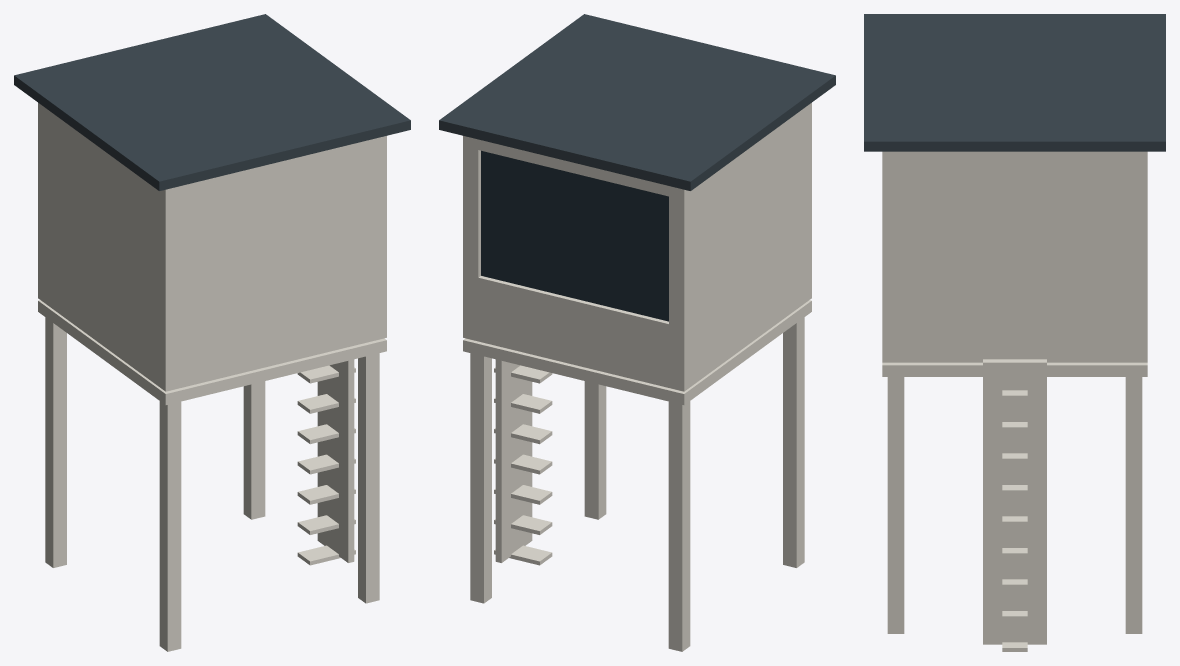
File: a06-finish-tower.glb
3 views of the same model, side by side, from view 1: azimuth 30°, elevation 25°; view 2: azimuth 150°, elevation 25°; view 3: azimuth 270°, elevation 25° (orthographic). The views are drawn at different scales.
Parts seen in each view (by area): view 1: part2, part4, part0, part5, part1; view 2: part2, part4, part3, part0, part5, part1; view 3: part2, part4, part5, part0, part1.
Part boxes in pixels (x1=…): part2: x1=38, y1=103, x2=386, y2=391; part4: x1=14, y1=14, x2=410, y2=190; part0: x1=45, y1=317, x2=379, y2=651; part5: x1=297, y1=359, x2=355, y2=565; part1: x1=38, y1=300, x2=386, y2=404; part2: x1=463, y1=103, x2=811, y2=391; part4: x1=439, y1=14, x2=835, y2=190; part3: x1=481, y1=150, x2=668, y2=321; part0: x1=470, y1=317, x2=804, y2=651; part5: x1=494, y1=359, x2=552, y2=565; part1: x1=463, y1=300, x2=811, y2=404; part2: x1=882, y1=151, x2=1147, y2=362; part4: x1=864, y1=14, x2=1165, y2=151; part5: x1=983, y1=359, x2=1046, y2=651; part0: x1=887, y1=377, x2=1142, y2=633; part1: x1=882, y1=362, x2=1147, y2=376.
Bounding box in the file's own units: 3450 × 6085 × 3300.
